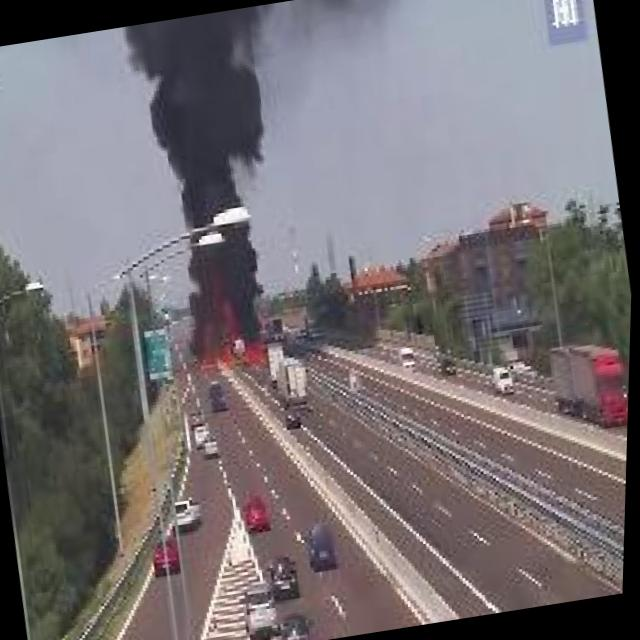fire: (179, 259, 280, 376)
